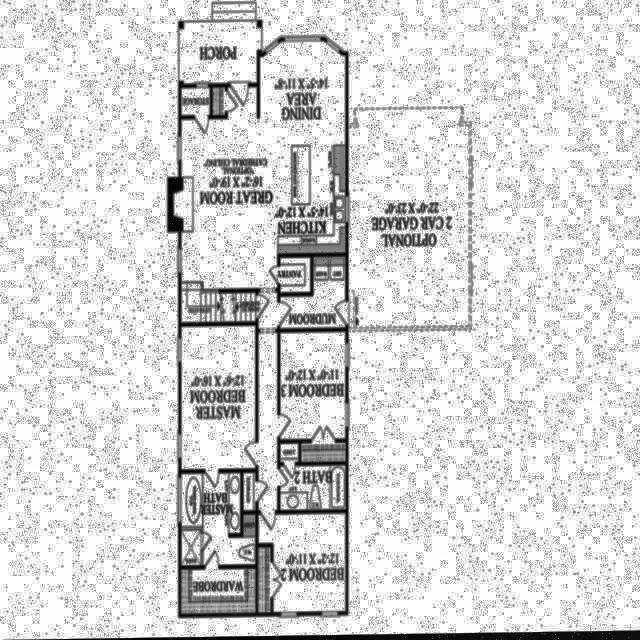room: (173, 87, 278, 292), (181, 326, 256, 471), (258, 514, 346, 613), (259, 42, 346, 139), (276, 138, 347, 255), (180, 473, 256, 567), (280, 333, 346, 441), (280, 257, 346, 331), (183, 22, 258, 85), (181, 293, 278, 330), (180, 569, 256, 615), (258, 334, 277, 512), (279, 465, 346, 512), (281, 258, 310, 294), (181, 88, 211, 117), (301, 444, 346, 463), (258, 548, 270, 613), (244, 473, 256, 511), (280, 445, 299, 463)
